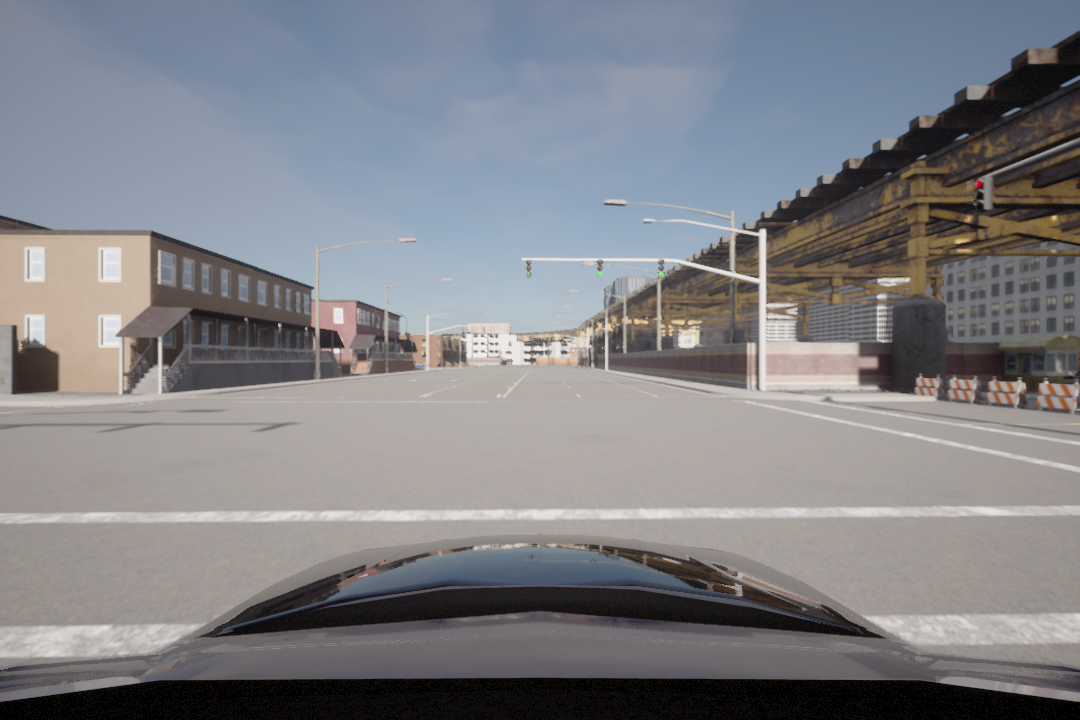TrafficLight: (972, 173, 994, 211), (596, 258, 607, 280), (656, 259, 667, 279), (524, 259, 534, 279)
